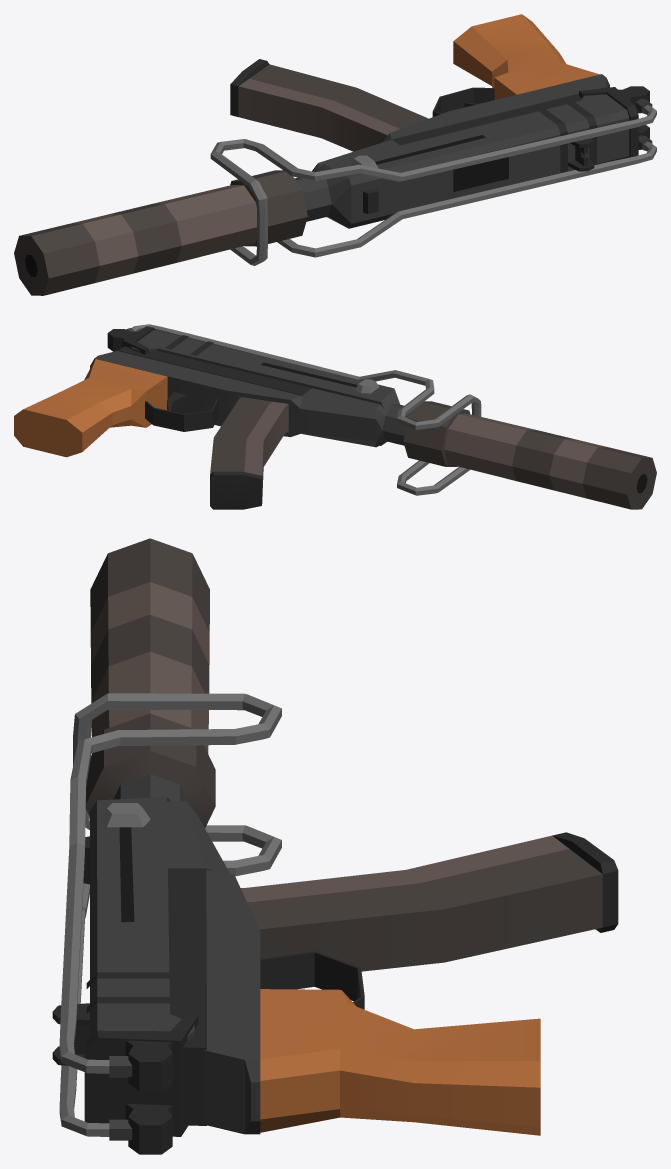
File: Skorpion_3D.glb
The picture shows the model from 3 angles, top to bottom: view 1: azimuth 30°, elevation 25°; view 2: azimuth 150°, elevation 25°; view 3: azimuth 270°, elevation 25°; orthographic projection. The views are drawn at different scales.
Visible parts, largest first — view 1: Vz61SkorpionLowPoly; view 2: Vz61SkorpionLowPoly; view 3: Vz61SkorpionLowPoly.
Part boxes in pixels (x1,y1,x2,y2): Vz61SkorpionLowPoly: (14,14,656,295); Vz61SkorpionLowPoly: (14,324,656,509); Vz61SkorpionLowPoly: (52,538,618,1154).
Size of the model in its own units: 0.4015 by 0.0535 by 0.1852.
Materials: 1 (1 with a texture image).
